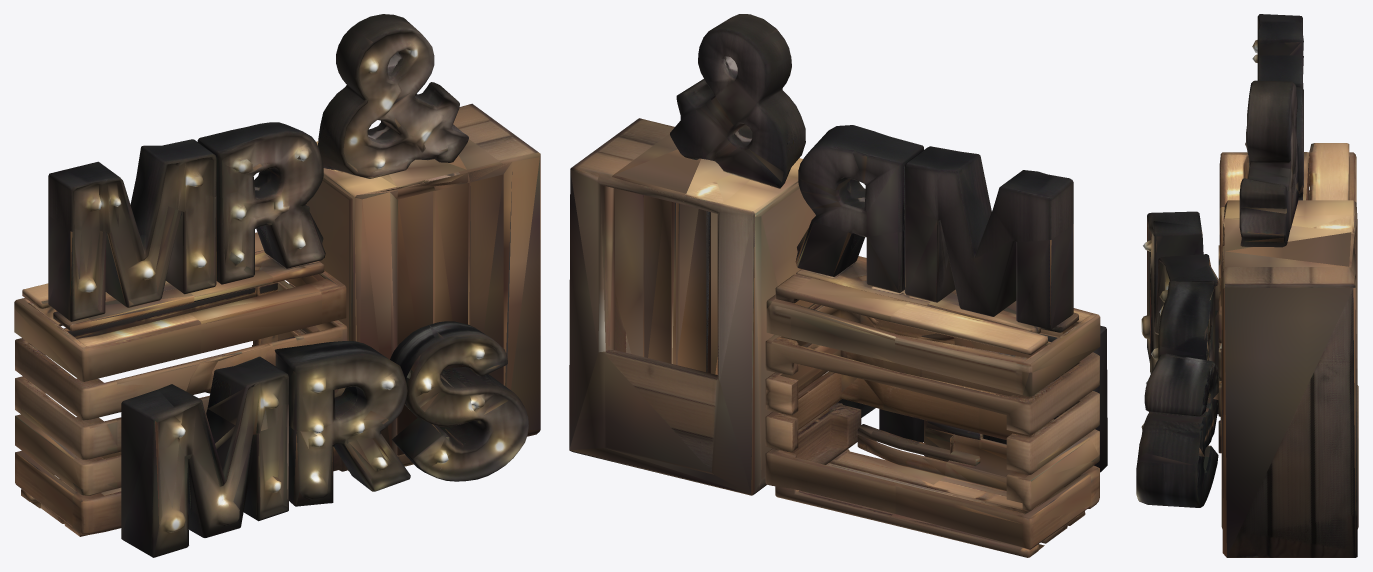
The model's file is MR_MRS_Marquee_Sig_0308225648_texture.glb.
3 renders of one model, left to right at view 1: azimuth 30°, elevation 25°; view 2: azimuth 150°, elevation 25°; view 3: azimuth 270°, elevation 25°, orthographic. The views are drawn at different scales.
Visible parts, largest first — view 1: Mesh_0.001; view 2: Mesh_0.001; view 3: Mesh_0.001.
Part boxes in pixels (box(x1,y1,x2,y2)): Mesh_0.001: box(14, 14, 540, 557); Mesh_0.001: box(569, 14, 1107, 557); Mesh_0.001: box(1136, 14, 1358, 557).
Size of the model in its own units: 1.06 by 0.9398 by 0.459.
Materials: 1 (1 with a texture image).
